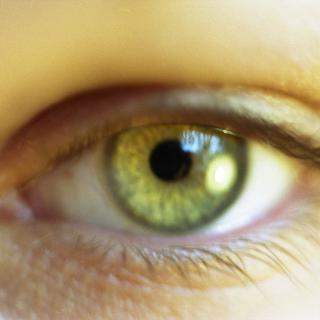pupil: (149, 139, 193, 183)
